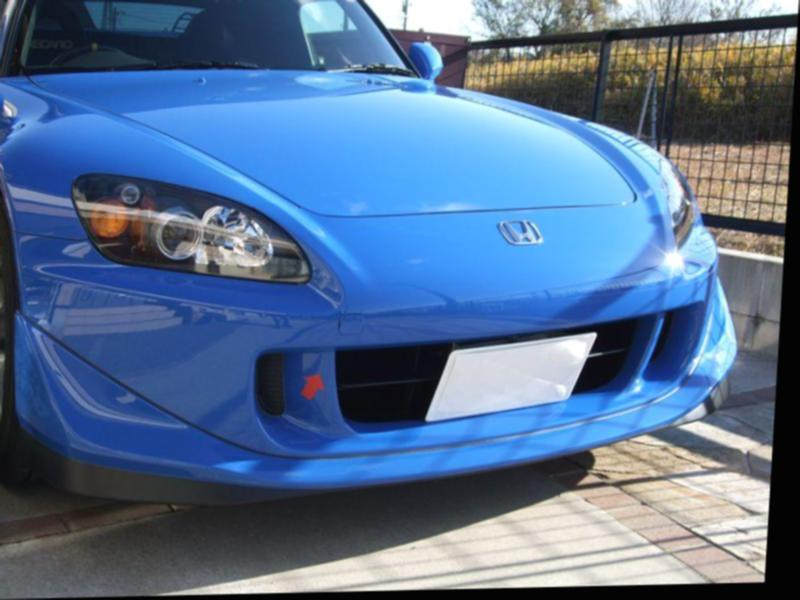License_Plate: (419, 328, 605, 427)
